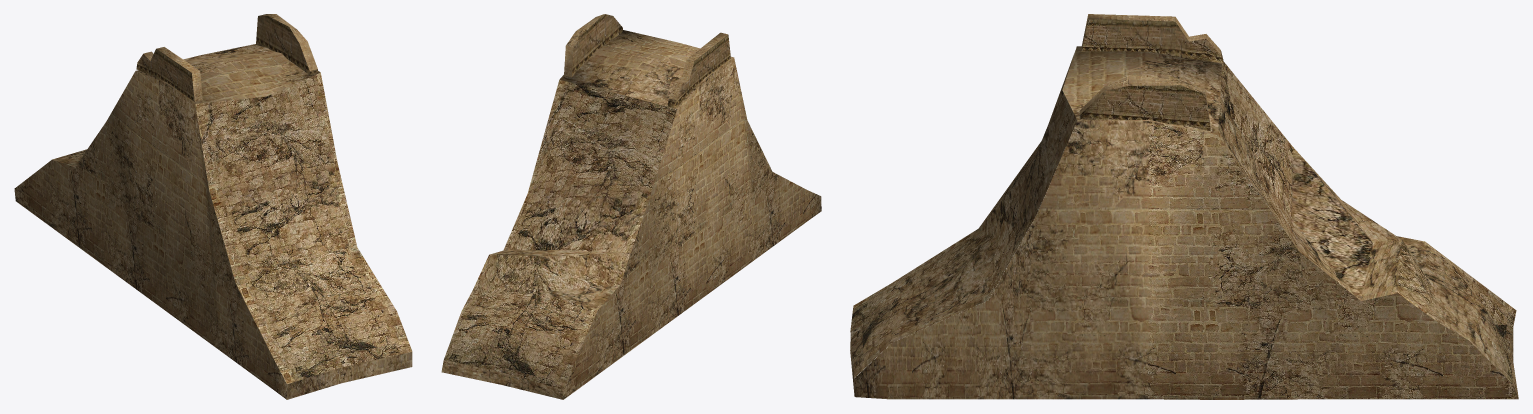
The model's file is w_cd_castle_wall02.glb.
The picture shows the model from 3 angles, left to right: view 1: azimuth 30°, elevation 25°; view 2: azimuth 150°, elevation 25°; view 3: azimuth 270°, elevation 25°; orthographic projection. The views are drawn at different scales.
Visible parts, largest first — view 1: w_cd_castle_wall02 (×2); view 2: w_cd_castle_wall02 (×2); view 3: w_cd_castle_wall02 (×2).
Boxes of the visible parts, bbox=[...] form: w_cd_castle_wall02 (×2): bbox=[14, 14, 412, 399]; w_cd_castle_wall02 (×2): bbox=[441, 14, 821, 399]; w_cd_castle_wall02 (×2): bbox=[850, 14, 1518, 399].
Size of the model in its own units: 7.11 by 14.13 by 26.85.
3 materials, 3 textured.
